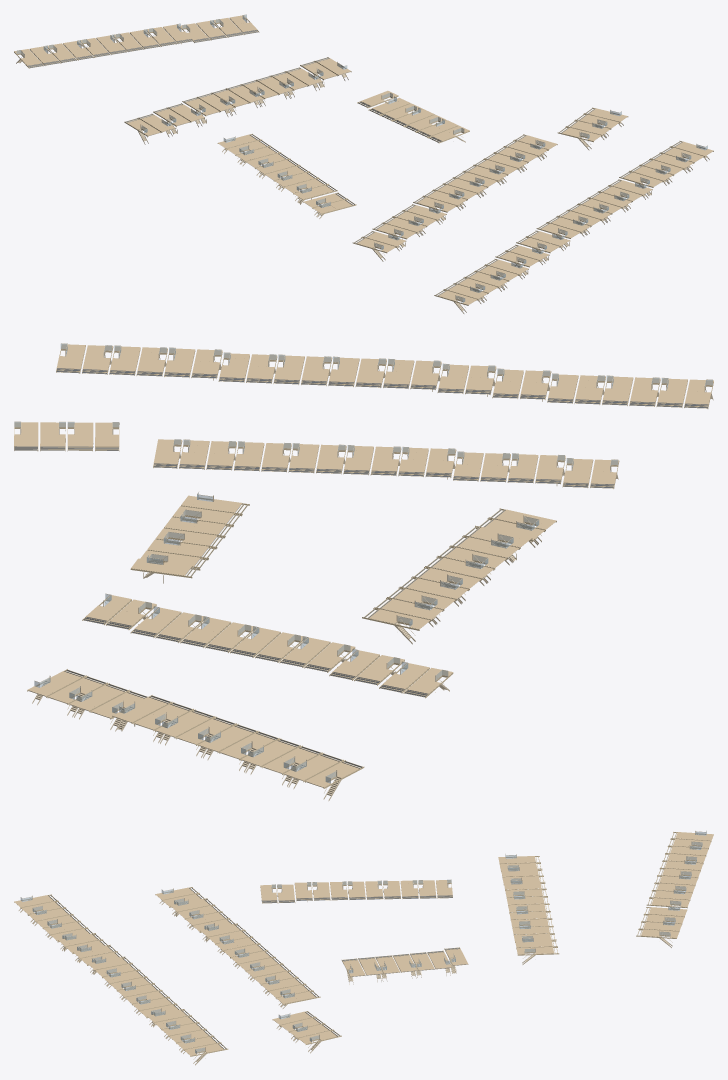
Rendered from stage-5.glb.
3 views of the same model, one above another, from view 1: azimuth 30°, elevation 25°; view 2: azimuth 150°, elevation 25°; view 3: azimuth 270°, elevation 25° (orthographic). The views are drawn at different scales.
Visible parts, largest first — view 1: Geom3D (×5); view 2: Geom3D (×5); view 3: Geom3D (×5).
Boxes of the visible parts, <box> form: Geom3D (×5): <box>14,14,713,313</box>; Geom3D (×5): <box>14,343,713,801</box>; Geom3D (×5): <box>14,831,713,1065</box>.
Size of the model in its own units: 116 by 8.59 by 162.
